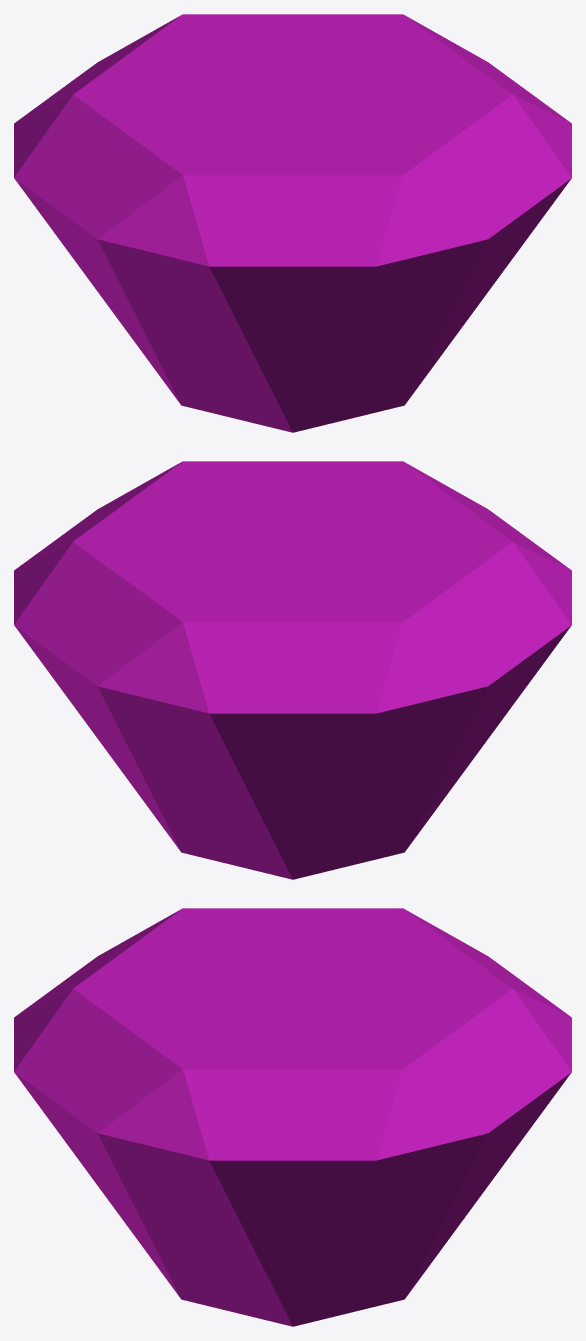
The model's file is amethyst_item.glb.
3 renders of one model, top to bottom at view 1: azimuth 30°, elevation 25°; view 2: azimuth 150°, elevation 25°; view 3: azimuth 270°, elevation 25°, orthographic.
Parts seen in each view (by area): view 1: Cone; view 2: Cone; view 3: Cone.
Boxes of the visible parts, x1=… form: Cone: x1=14, y1=14, x2=571, y2=432; Cone: x1=14, y1=461, x2=571, y2=879; Cone: x1=14, y1=908, x2=571, y2=1326.
Bounding box in the file's own units: 0.766 × 0.4378 × 0.7804.
